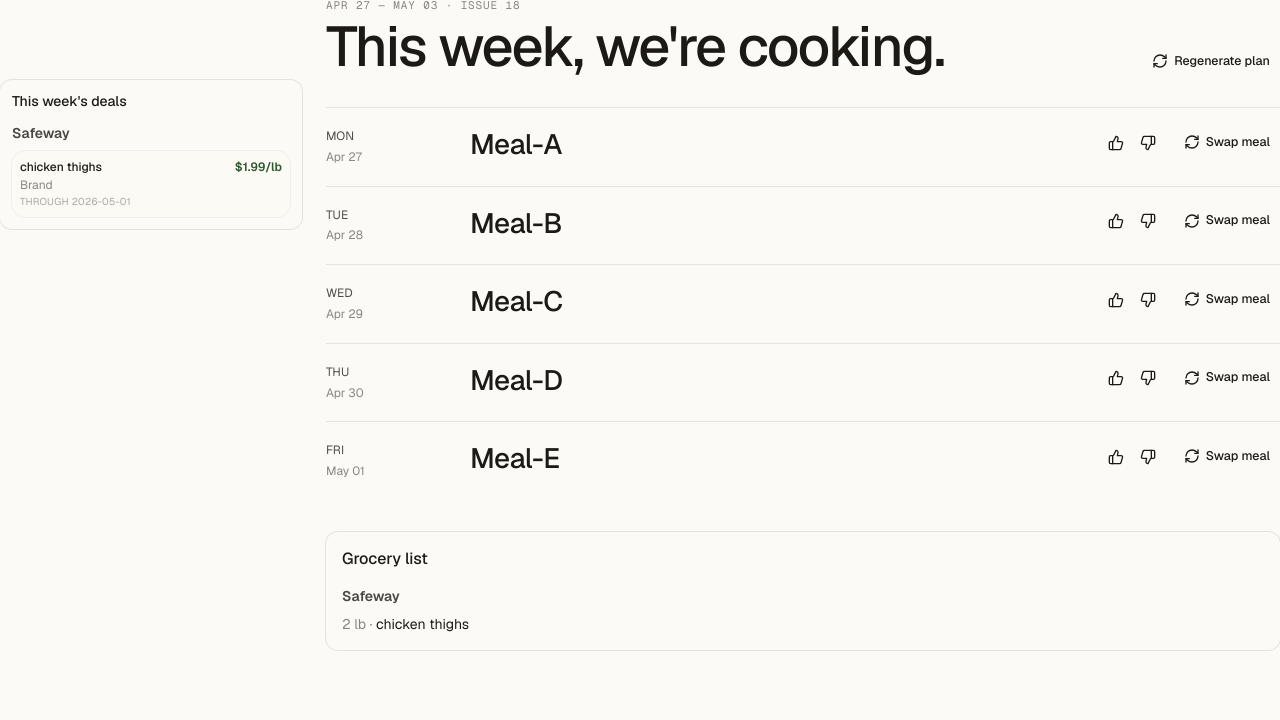
Home page › SwapDrawer flow › clicking Swap opens a dialog titled 'Choose a swap'
Expected: the heading "Meal-A" is shown, 470,126 -> 562,162
Click the button with aria-label "swap meal 2": click(1227, 221) 1174,207 -> 1279,235
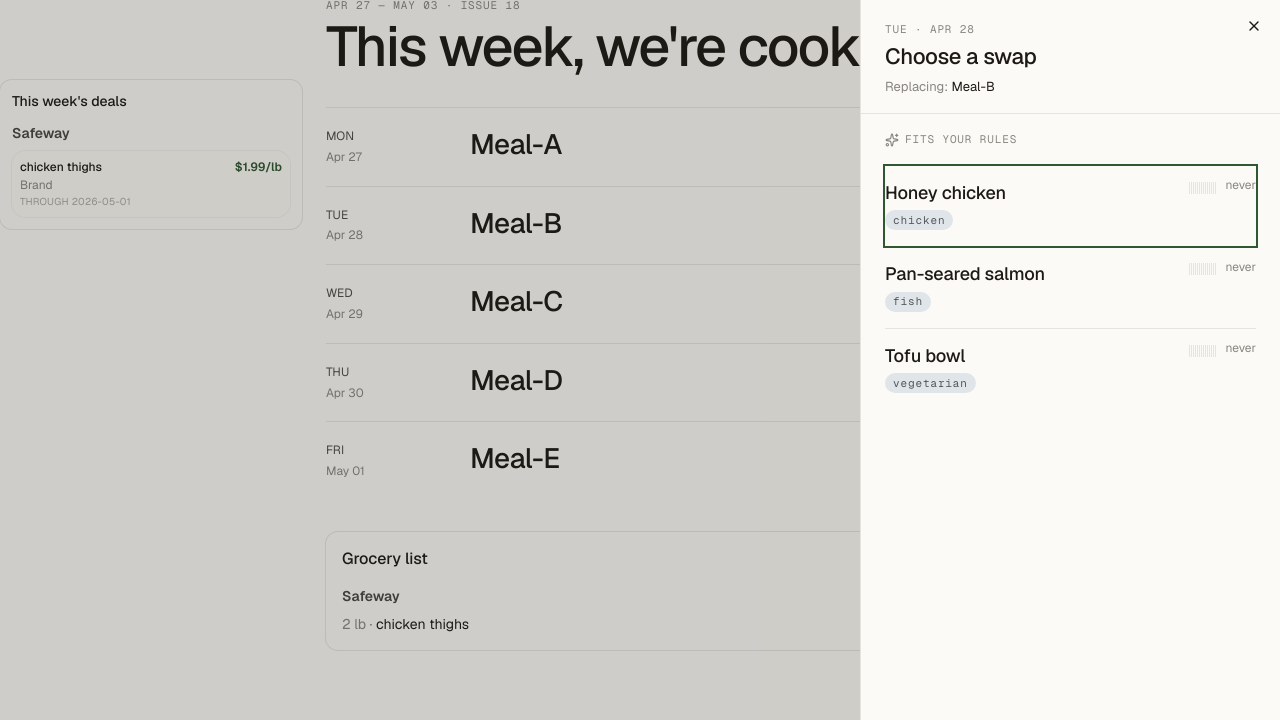
Result: the dialog "Choose a swap" is shown at 860,0 -> 1279,719
